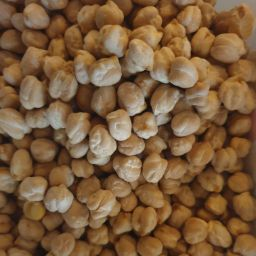White Chickpeas: (8, 7, 256, 256), (64, 59, 209, 198)
